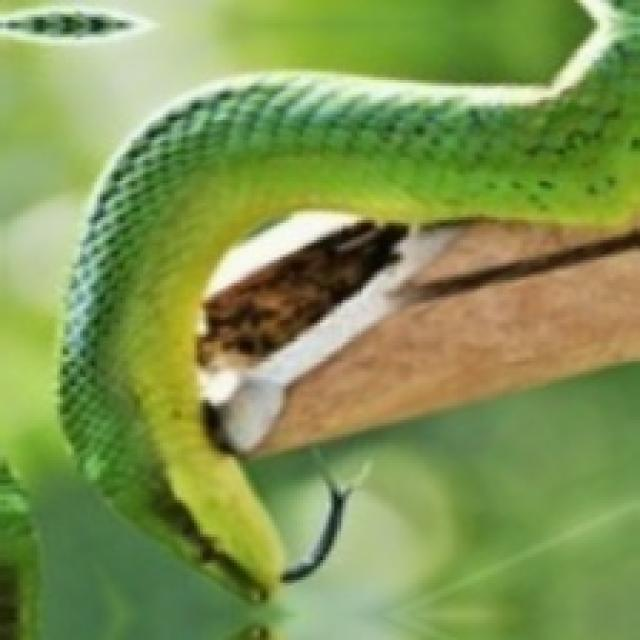red-tailed green ratsnake: (60, 0, 637, 586)
